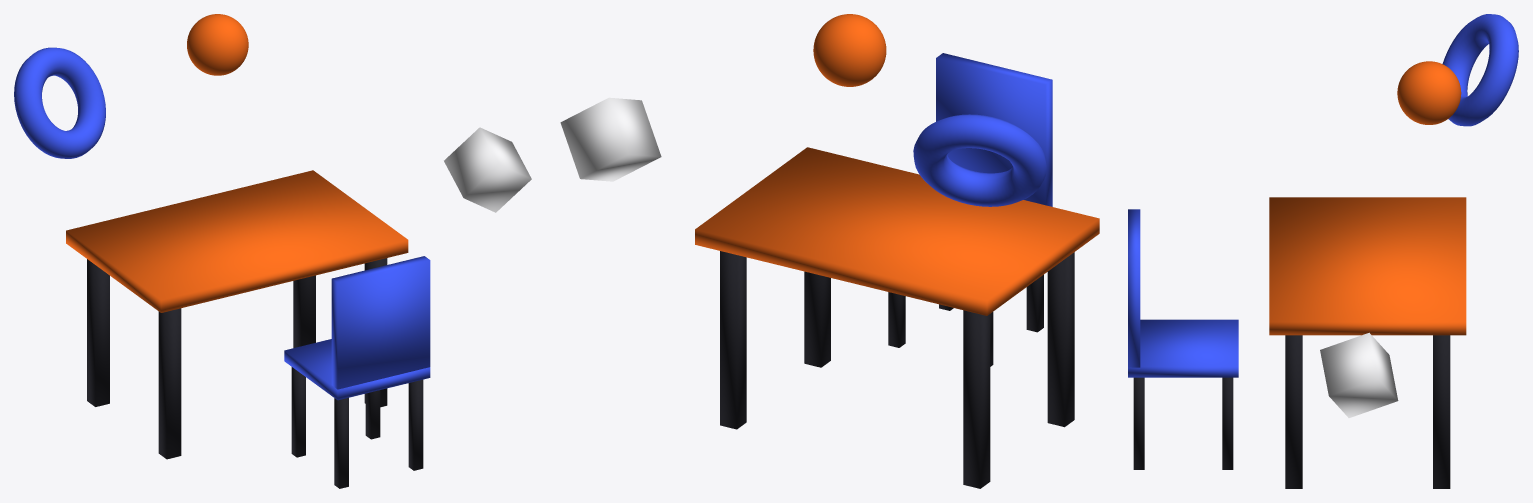
The model's file is modelia_hero.glb.
3 renders of one model, left to right at view 1: azimuth 30°, elevation 25°; view 2: azimuth 150°, elevation 25°; view 3: azimuth 270°, elevation 25°, orthographic. The views are drawn at different scales.
Visible parts, largest first — view 1: Tampo, Encosto, Torus, Cubo, Perna, Perna.001, Sphere, Assento, Perna.003, PernaCadeira.002, PernaCadeira, PernaCadeira.001 (+1 smaller); view 2: Tampo, Encosto, Torus, Cubo, Perna.001, Perna.003, Perna, Sphere, Perna.002, PernaCadeira.003, PernaCadeira; view 3: Tampo, Assento, Torus, Cubo, Sphere, Perna.002, Perna.003, Encosto, PernaCadeira.002, PernaCadeira.003.
Boxes of the visible parts, left/top/right/bottom form: Tampo: left=66, top=170, right=408, bottom=312; Encosto: left=331, top=256, right=430, bottom=389; Torus: left=14, top=47, right=105, bottom=158; Cubo: left=444, top=127, right=531, bottom=212; Perna: left=158, top=308, right=181, bottom=459; Perna.001: left=87, top=259, right=109, bottom=406; Sphere: left=187, top=14, right=248, bottom=75; Assento: left=284, top=339, right=430, bottom=400; Perna.003: left=293, top=275, right=315, bottom=347; PernaCadeira.002: left=408, top=379, right=423, bottom=470; PernaCadeira: left=334, top=397, right=348, bottom=488; PernaCadeira.001: left=291, top=367, right=305, bottom=457; Tampo: left=695, top=147, right=1099, bottom=315; Encosto: left=936, top=53, right=1052, bottom=206; Torus: left=913, top=114, right=1046, bottom=206; Cubo: left=560, top=97, right=661, bottom=181; Perna.001: left=963, top=310, right=990, bottom=488; Perna.003: left=720, top=251, right=746, bottom=429; Perna: left=1047, top=252, right=1074, bottom=427; Sphere: left=813, top=14, right=886, bottom=86; Perna.002: left=804, top=271, right=830, bottom=367; PernaCadeira.003: left=888, top=292, right=905, bottom=347; PernaCadeira: left=1026, top=274, right=1043, bottom=332; Tampo: left=1269, top=197, right=1466, bottom=335; Assento: left=1128, top=319, right=1238, bottom=377; Torus: left=1442, top=14, right=1518, bottom=126; Cubo: left=1320, top=332, right=1398, bottom=417; Sphere: left=1397, top=61, right=1461, bottom=124; Perna.002: left=1285, top=335, right=1302, bottom=488; Perna.003: left=1433, top=335, right=1450, bottom=488; Encosto: left=1128, top=209, right=1140, bottom=367; PernaCadeira.002: left=1133, top=377, right=1144, bottom=469; PernaCadeira.003: left=1222, top=377, right=1233, bottom=469.
Bounding box in the file's own units: 2.19 × 1.68 × 1.59.
